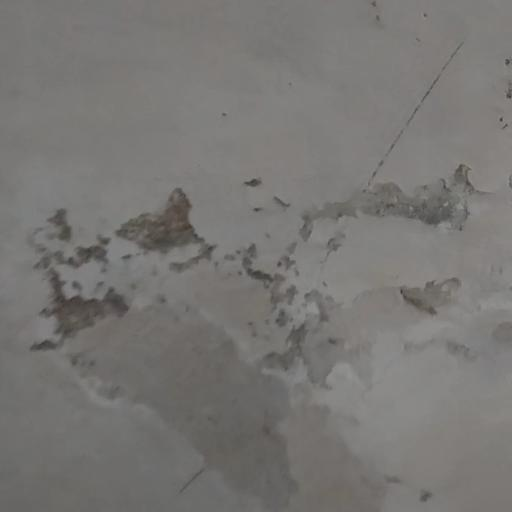peeling: (22, 162, 512, 512)
